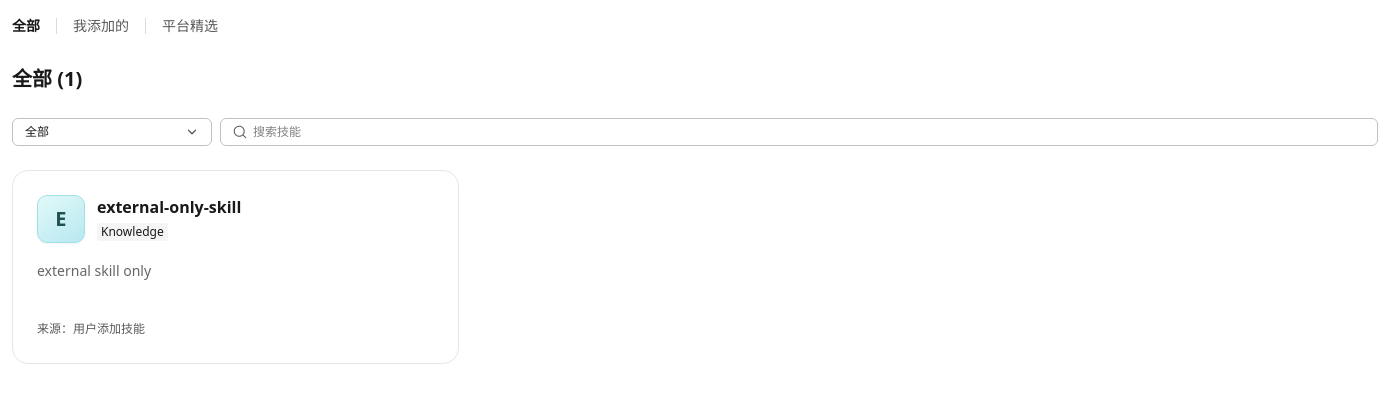
Scenario: business theme hub shell › skill source tabs and category dropdown › shows user-added tab even when only external skills exist
The width and height of the screenshot is (1390, 413).
Click the button "平台精选". click: (190, 26)
box: [162, 12, 218, 40]
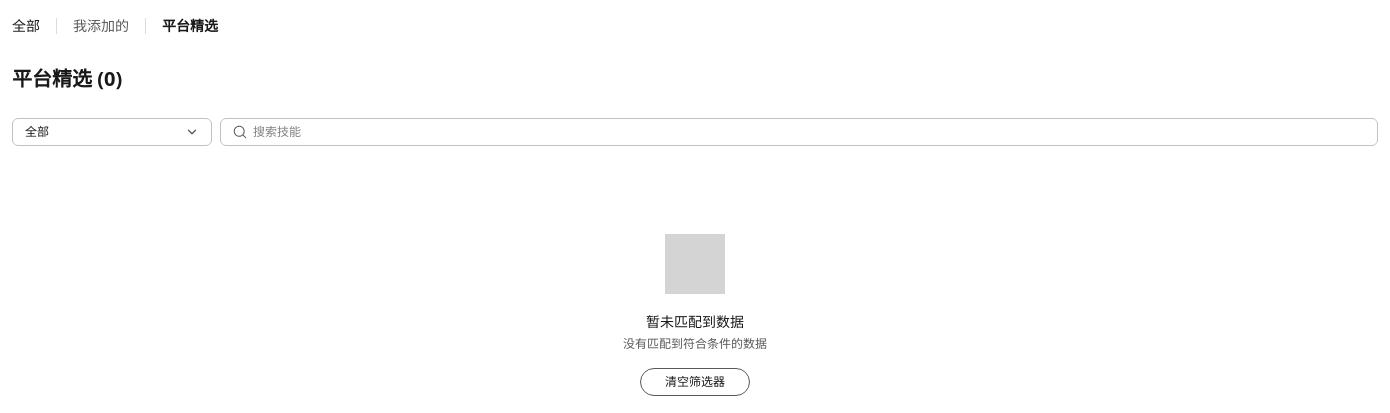
Expected: the text "平台精选 (0)" is shown, [12, 64, 122, 94]
Click the button "我添加的". click: (101, 26)
box: [73, 12, 129, 40]
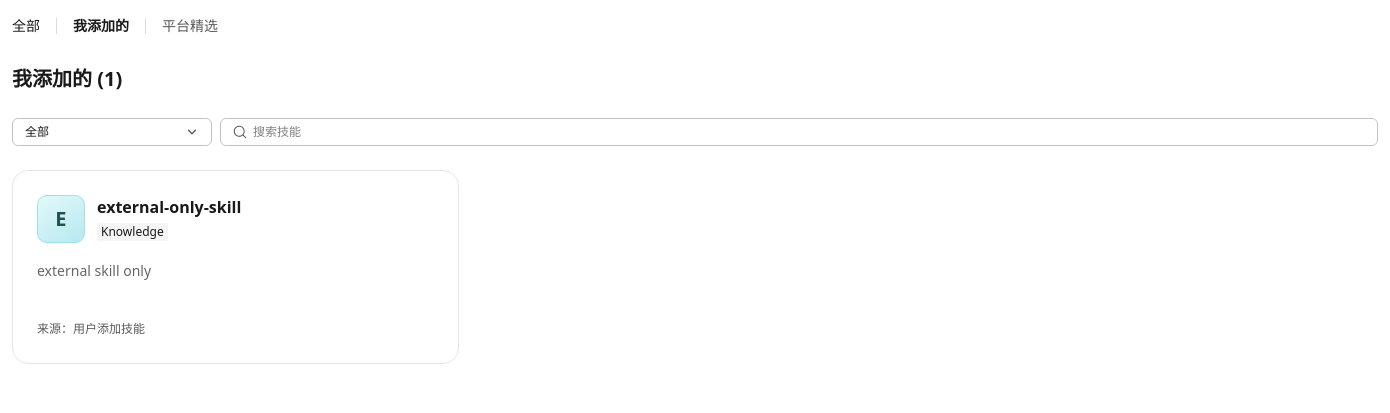
Expected: the text "我添加的 (1)" is shown, [12, 64, 122, 94]
Expected: the text "external-only-skill" is shown, [97, 196, 241, 218]
